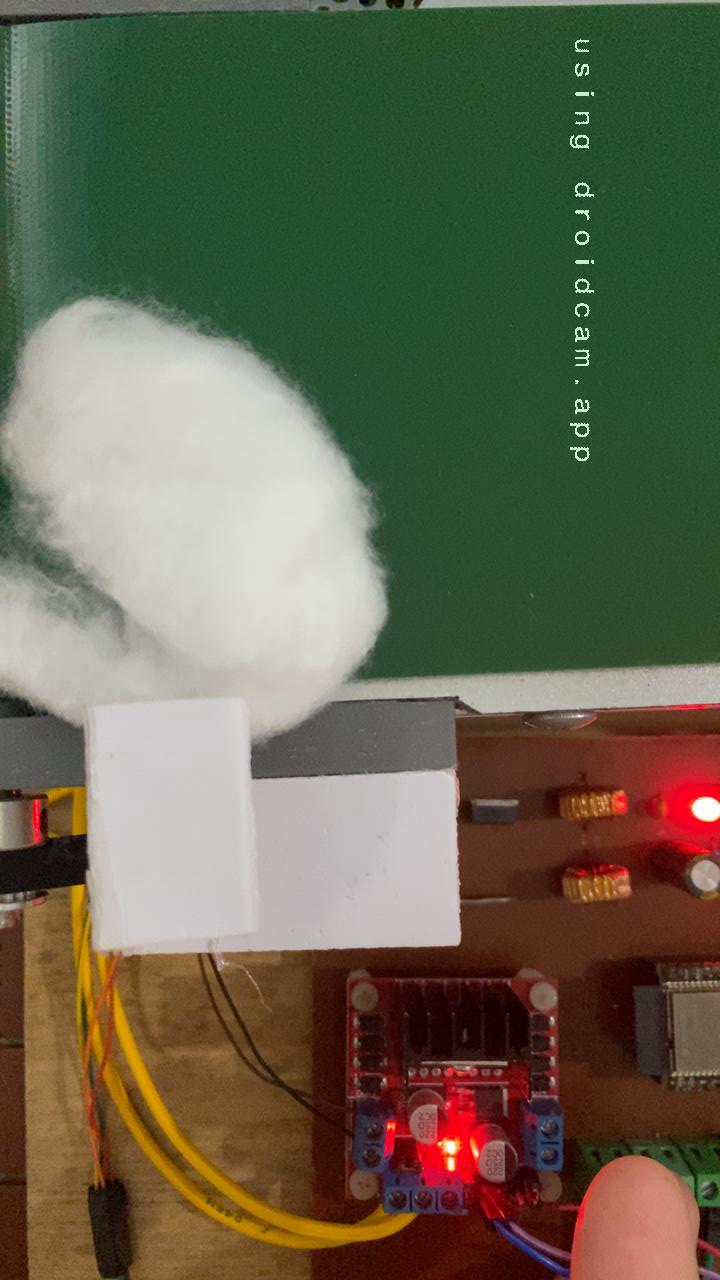cotton: (0, 291, 396, 664)
